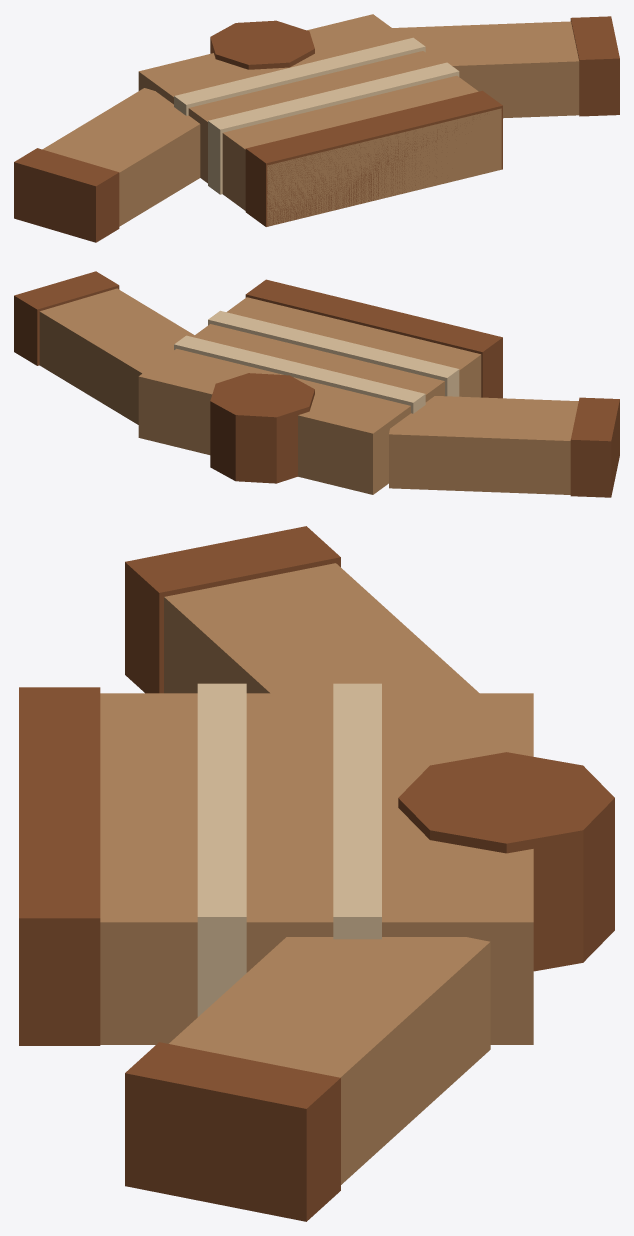
The model's file is alpacaSweater.glb.
3 views of the same model, one above another, from view 1: azimuth 30°, elevation 25°; view 2: azimuth 150°, elevation 25°; view 3: azimuth 270°, elevation 25° (orthographic). The views are drawn at different scales.
Parts seen in each view (by area): view 1: alpacaSweater; view 2: alpacaSweater; view 3: alpacaSweater.
Boxes of the visible parts, bbox=[...] form: alpacaSweater: bbox=[14, 14, 619, 242]; alpacaSweater: bbox=[14, 271, 619, 497]; alpacaSweater: bbox=[19, 526, 614, 1221].
Bounding box in the file's own units: 0.5092 × 0.054 × 0.22.
1 material, 1 textured.
